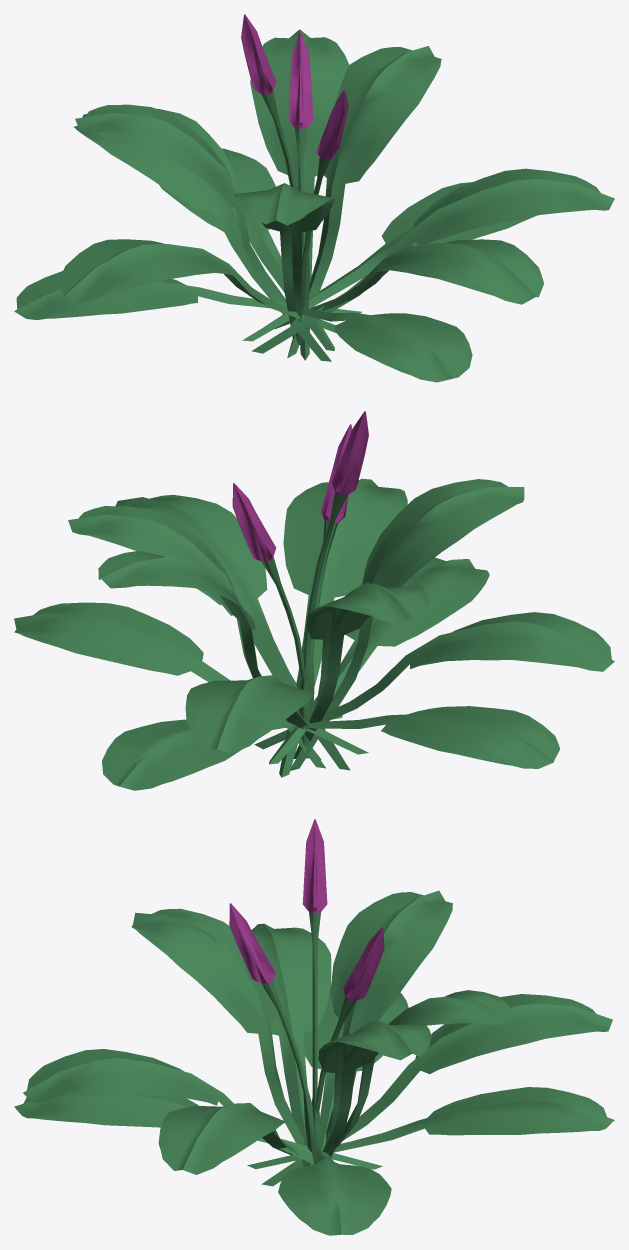
File: tropical_small09_flower.fbx
The picture shows the model from 3 angles, top to bottom: view 1: azimuth 30°, elevation 25°; view 2: azimuth 150°, elevation 25°; view 3: azimuth 270°, elevation 25°; orthographic projection. The views are drawn at different scales.
Parts seen in each view (by area): view 1: tropical_small09_flower; view 2: tropical_small09_flower; view 3: tropical_small09_flower.
Part boxes in pixels (x1=…): tropical_small09_flower: x1=14, y1=14, x2=614, y2=382; tropical_small09_flower: x1=14, y1=411, x2=614, y2=790; tropical_small09_flower: x1=14, y1=819, x2=614, y2=1235.
Bounding box in the file's own units: 0.6608 × 0.4192 × 0.6599.
